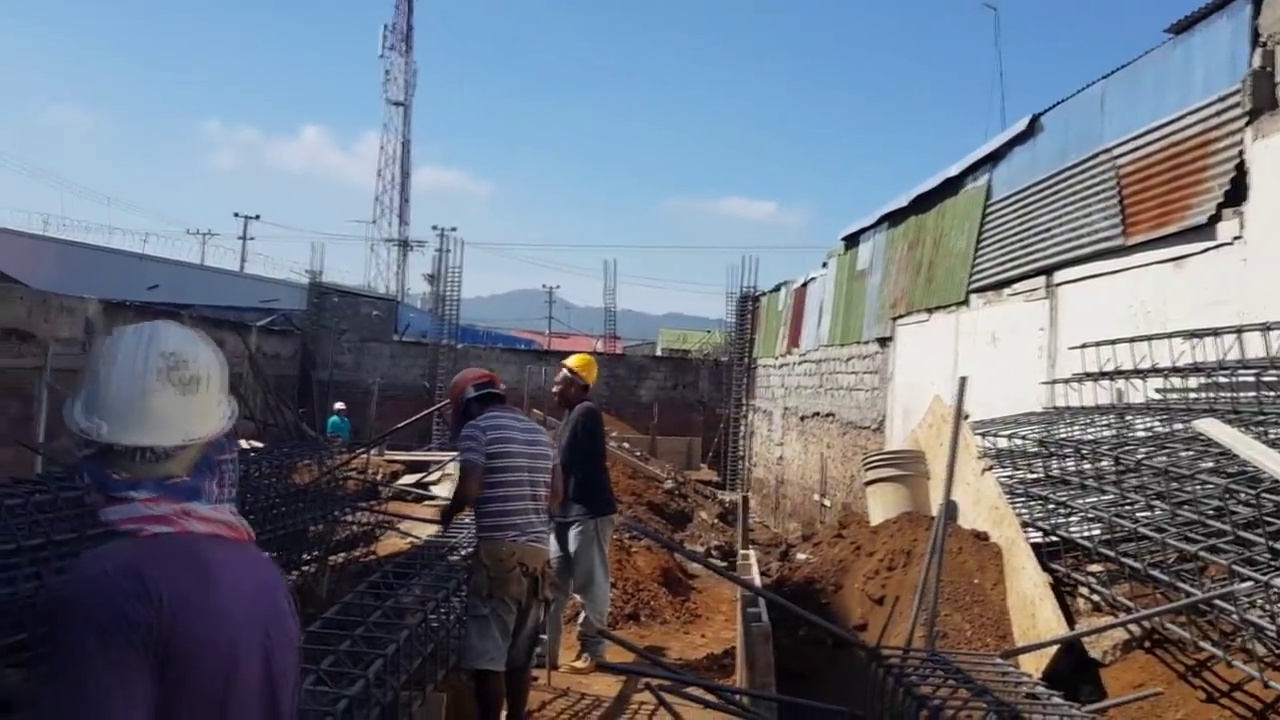helmet: (56, 301, 211, 459), (445, 364, 505, 409), (560, 357, 598, 386), (331, 401, 346, 412)
helmet-on: (60, 300, 240, 521), (445, 365, 509, 427), (552, 357, 598, 413), (332, 401, 347, 418)
person: (0, 302, 306, 712), (438, 362, 558, 698), (544, 360, 620, 662), (327, 401, 350, 442)
